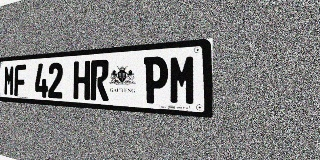2: (48, 62, 63, 98)
4: (35, 63, 48, 98)
F: (14, 64, 26, 96)
H: (73, 60, 90, 100)
M: (169, 54, 197, 106), (4, 65, 14, 96)
P: (143, 56, 168, 104)
R: (90, 59, 109, 101)
